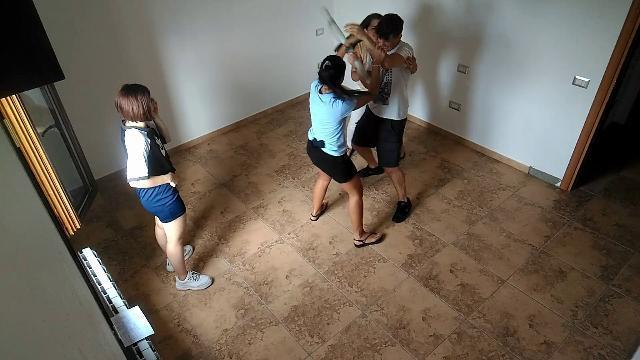non-violence: (112, 82, 215, 294)
violence: (303, 0, 417, 250)
